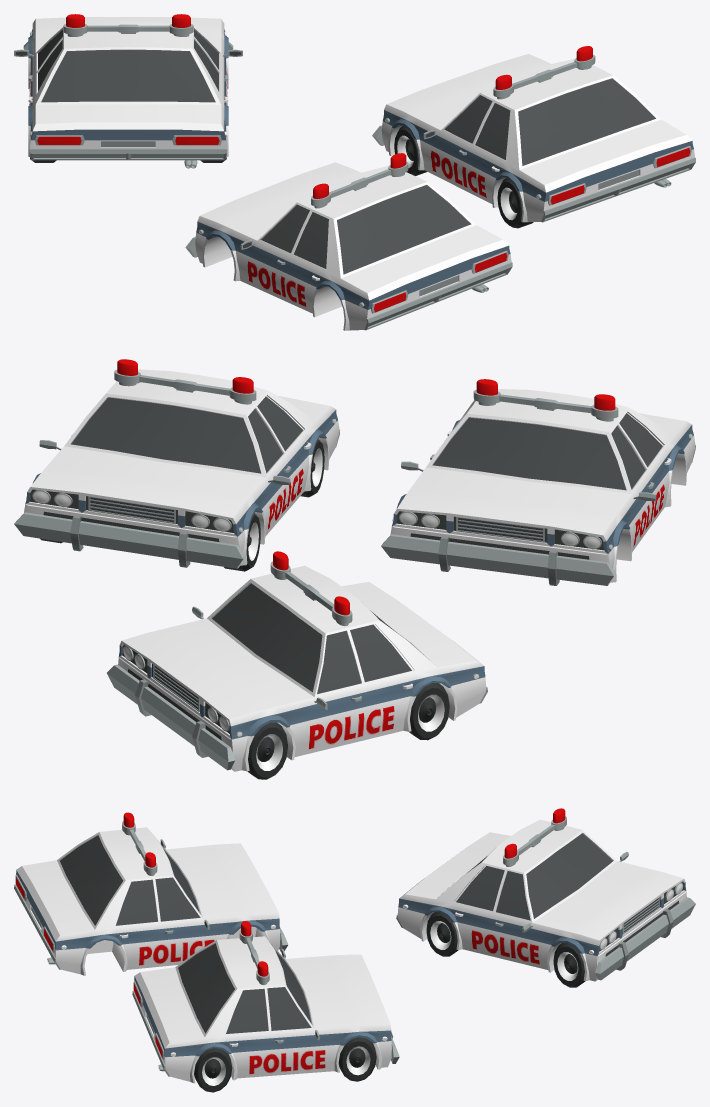
The model's file is mobil polisi.glb.
3 renders of one model, top to bottom at view 1: azimuth 30°, elevation 25°; view 2: azimuth 150°, elevation 25°; view 3: azimuth 270°, elevation 25°, orthographic. The views are drawn at different scales.
Parts seen in each view (by area): view 1: car2.001, car1, car2, whell.006, whell.007; view 2: car2, car2.001, car1, whell.001, whell.002, whell.007, whell.006; view 3: car2, car1, car2.001, whell.005, whell.004, whell.008, whell.003.
Boxes of the visible parts, <box> form: car2.001: <box>185,153,512,330</box>; car1: <box>372,46,695,222</box>; car2: <box>14,14,242,168</box>; whell.006: <box>497,177,533,228</box>; whell.007: <box>394,125,427,175</box>; car2: <box>107,551,487,771</box>; car2.001: <box>381,379,695,585</box>; car1: <box>14,359,339,568</box>; whell.001: <box>247,722,287,779</box>; whell.002: <box>409,683,449,740</box>; whell.007: <box>224,513,260,571</box>; whell.006: <box>300,439,324,497</box>; car2: <box>396,808,695,981</box>; car1: <box>132,921,399,1083</box>; car2.001: <box>14,812,288,975</box>; whell.005: <box>194,1048,232,1092</box>; whell.004: <box>338,1037,376,1081</box>; whell.008: <box>553,943,585,987</box>; whell.003: <box>426,911,458,956</box>.
Size of the model in its own units: 16.52 by 3.89 by 21.84.
3 materials, 3 textured.
